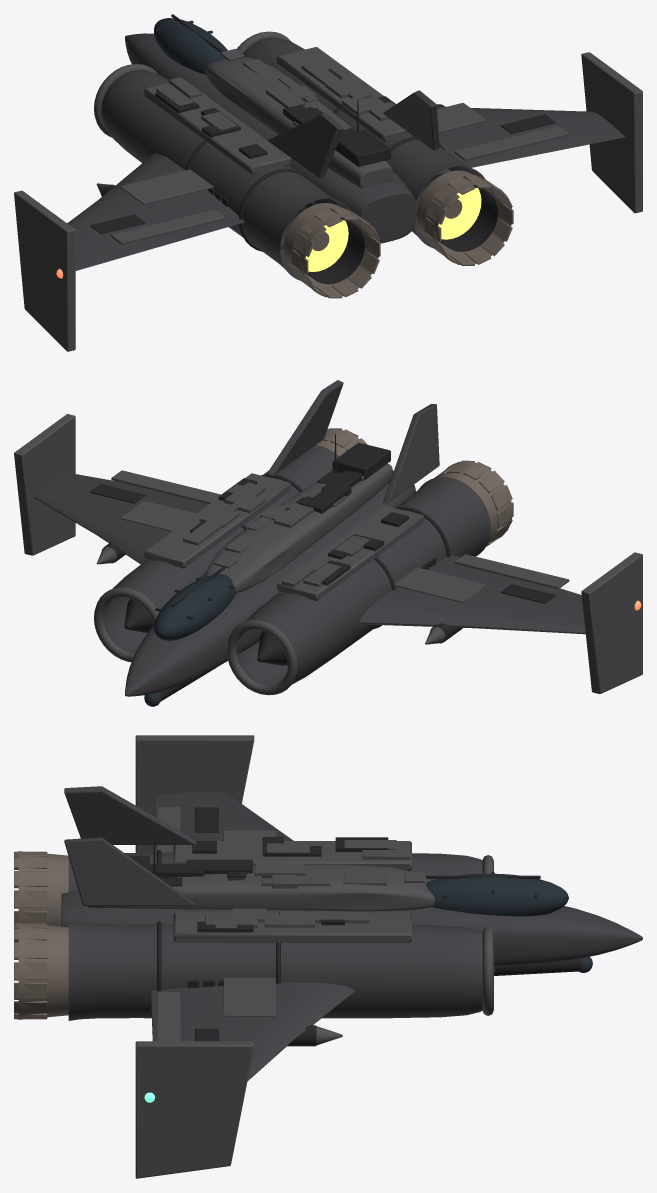
Rendered from gunship.glb.
3 views of the same model, one above another, from view 1: azimuth 30°, elevation 25°; view 2: azimuth 150°, elevation 25°; view 3: azimuth 270°, elevation 25° (orthographic). The views are drawn at different scales.
Visible parts, largest first — view 1: Gunship; view 2: Gunship; view 3: Gunship.
Boxes of the visible parts, x1,y1,x2,y2 form: Gunship: (14, 14, 642, 351); Gunship: (14, 380, 642, 706); Gunship: (14, 735, 642, 1178).
Size of the model in its own units: 15.64 by 4.89 by 13.2.
